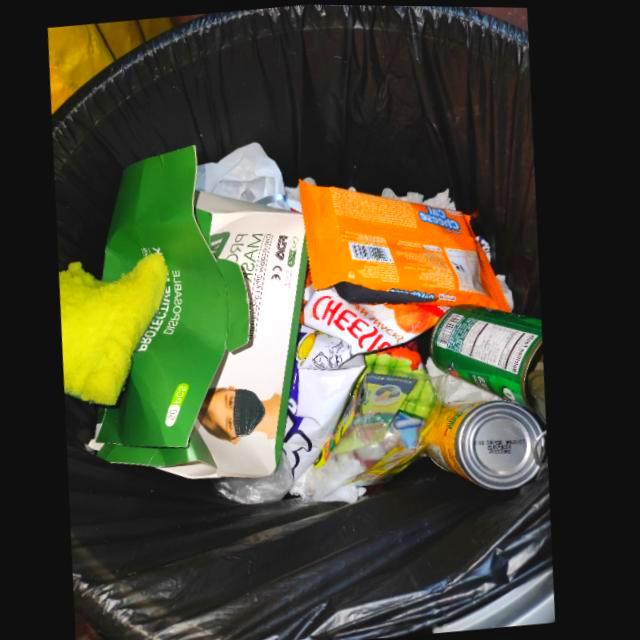aluminum: (433, 302, 552, 421), (433, 397, 546, 488)
cardboard: (91, 142, 309, 477)
food_wrapper: (288, 283, 454, 478), (301, 177, 515, 309)
plastic_sachet: (330, 374, 423, 460)
